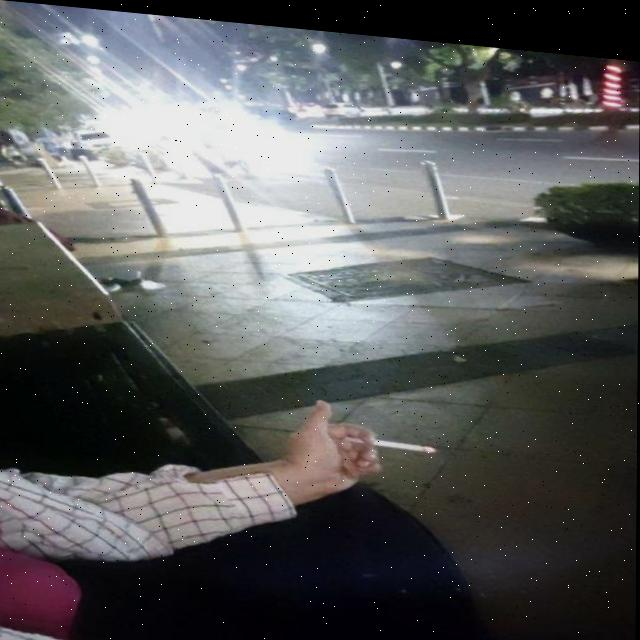cigarette: (346, 429, 437, 444)
